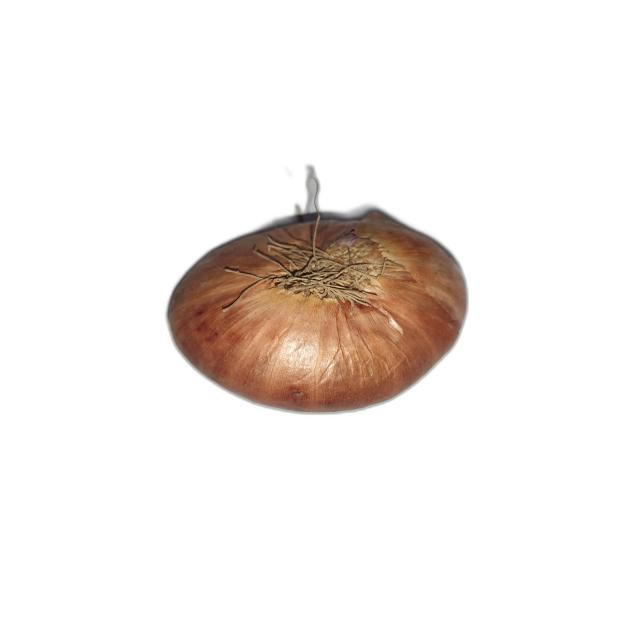onion: (168, 177, 468, 414)
